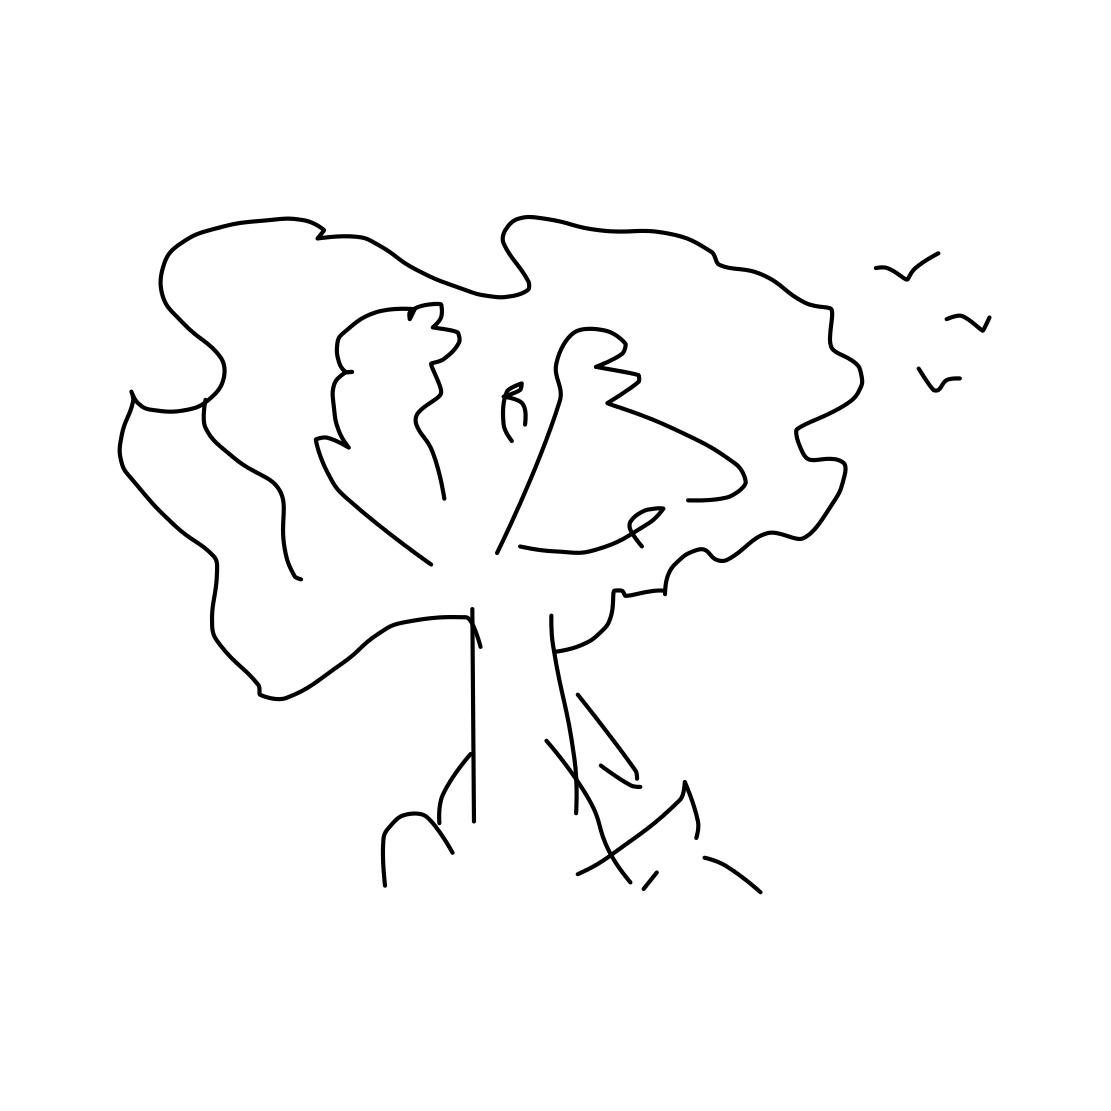Tree: (109, 113, 875, 907)
